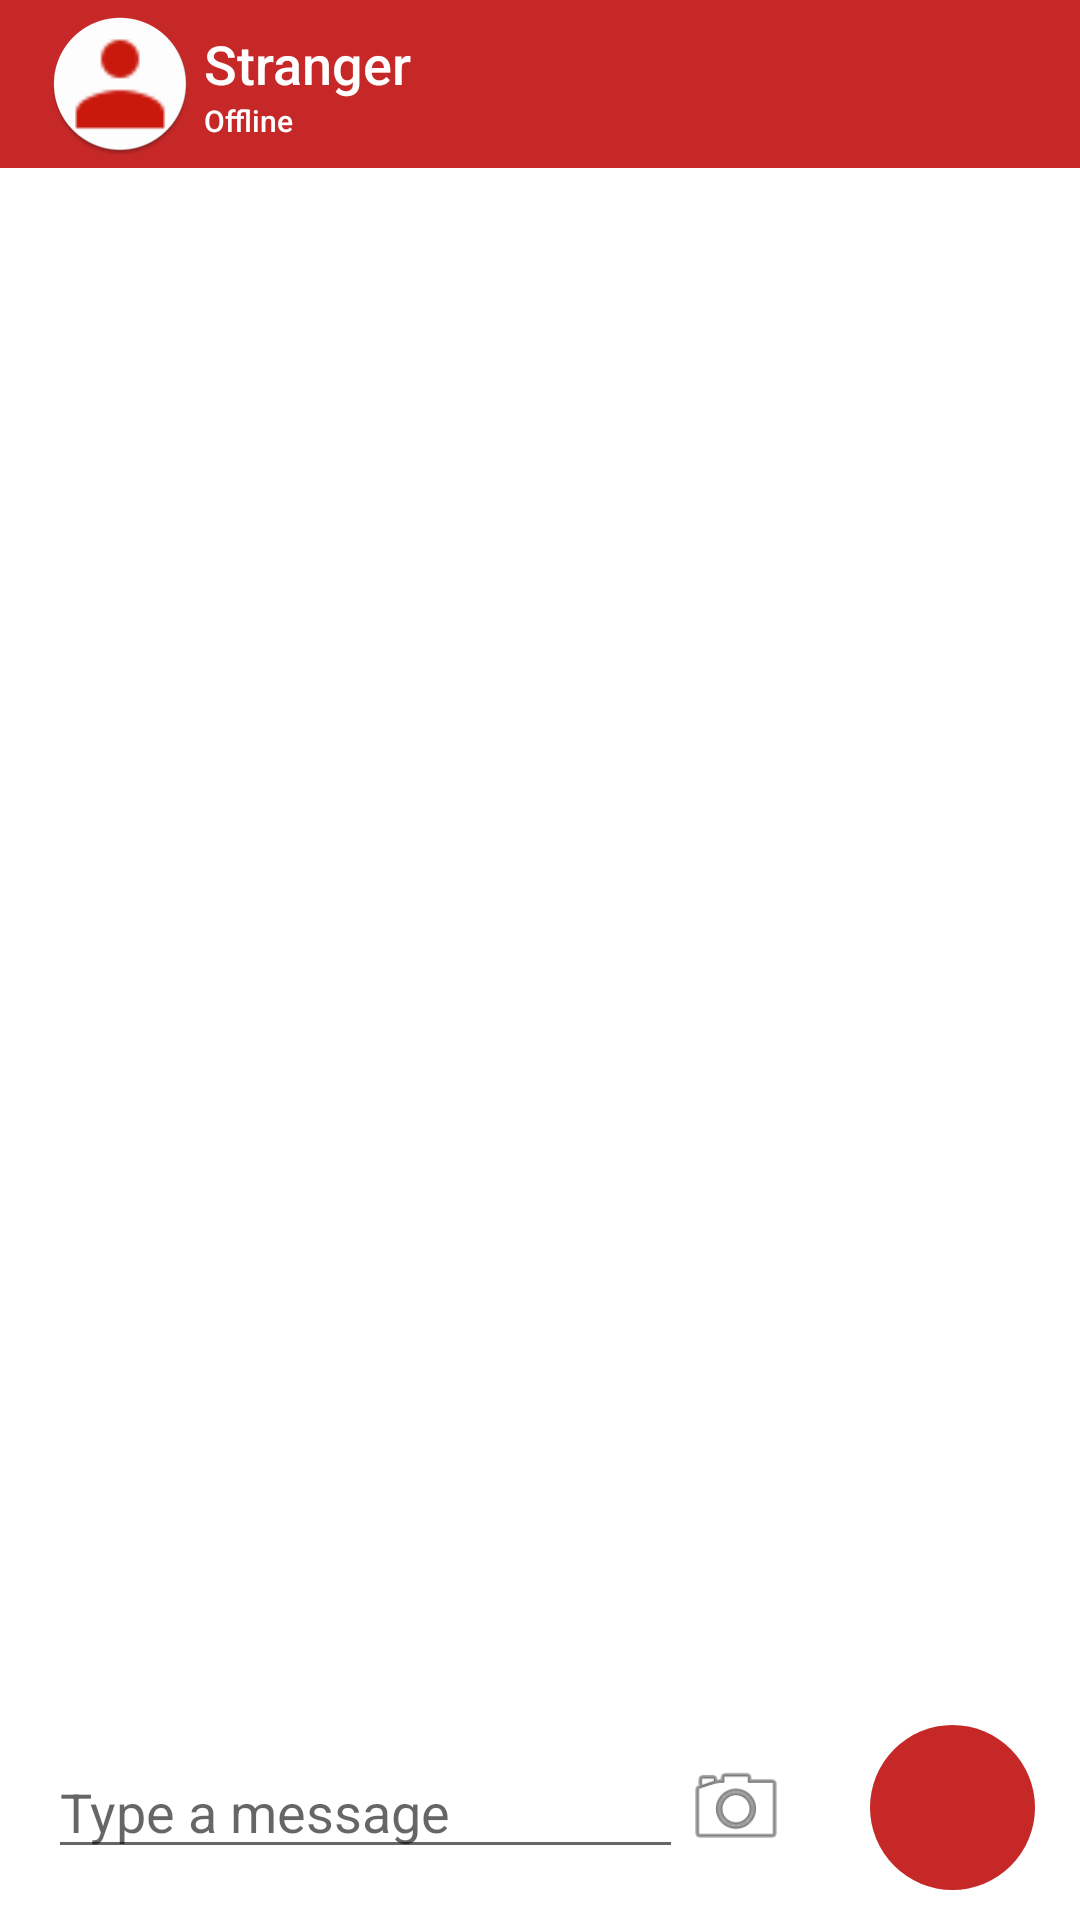

Where icons sit on this 1080x1920 app screen, as bbox(x1, y1, x2, y2):
camera: bbox(695, 1773, 777, 1838)
person: bbox(54, 17, 186, 153)
